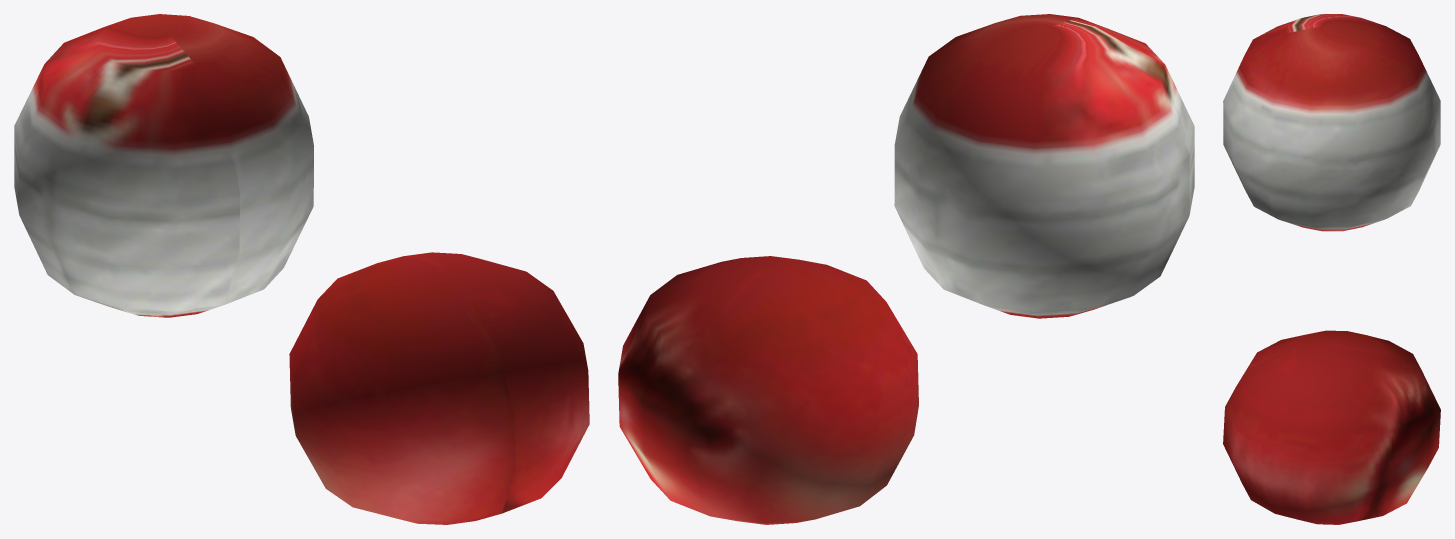
Rendered from normal.ico.obj.
3 renders of one model, left to right at view 1: azimuth 30°, elevation 25°; view 2: azimuth 150°, elevation 25°; view 3: azimuth 270°, elevation 25°, orthographic. The views are drawn at different scales.
Bounding box in the file's own units: 4.85 × 4.77 × 2.4.
